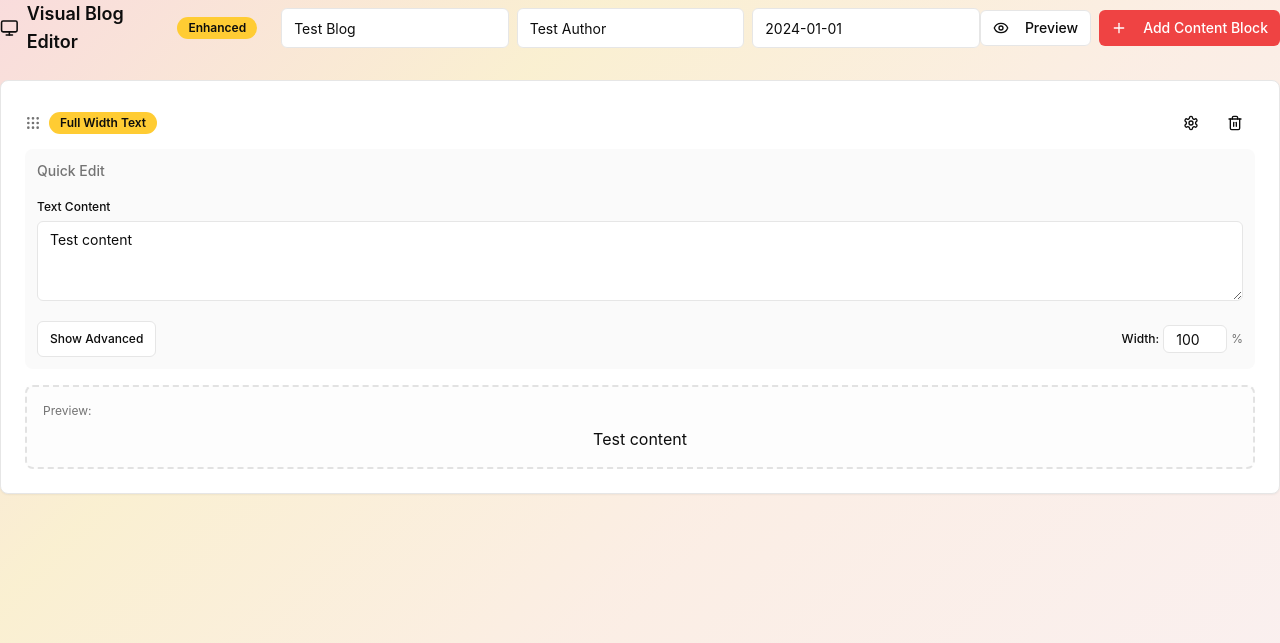
Test case: DragDropBlogEditor Component › shows advanced settings when block is selected
Note: Click the settings button to show advanced settings
Click the button named "settings". click: (1191, 123)
box: [1171, 105, 1211, 141]
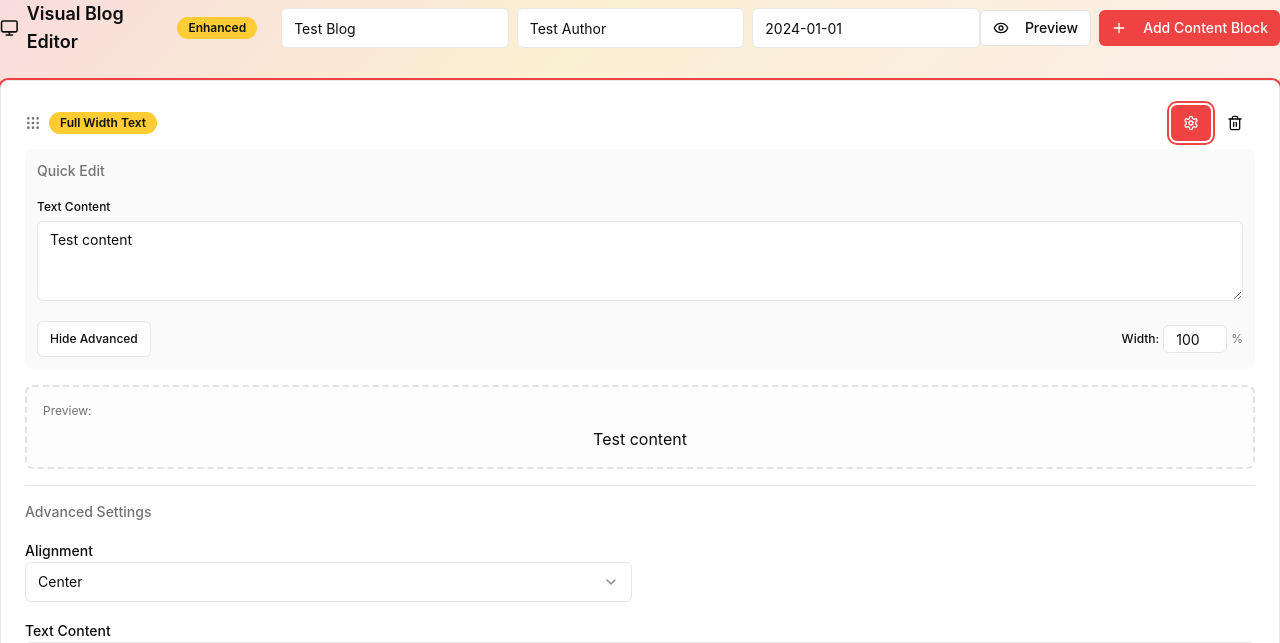
Expected: the heading "Advanced Settings" is shown, [25, 503, 152, 520]
